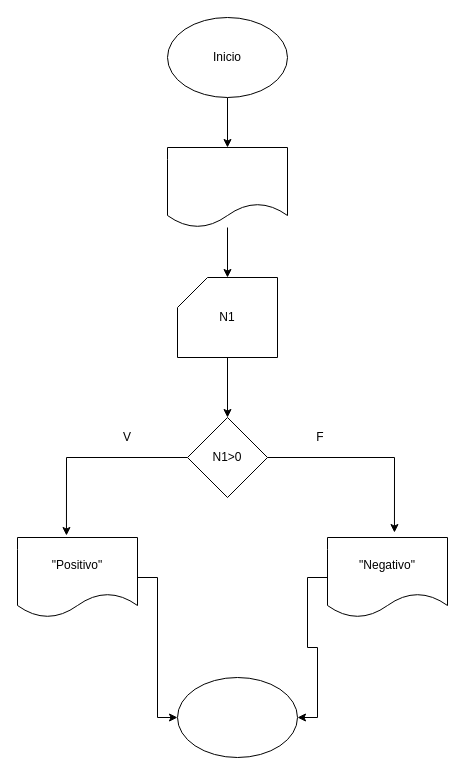
This 465x775 diagram has some shape labels left out. Each missing label, with the centre of its shape:
"Escreva um numero diferente de 0": [227,187]
Fim: [237,717]
